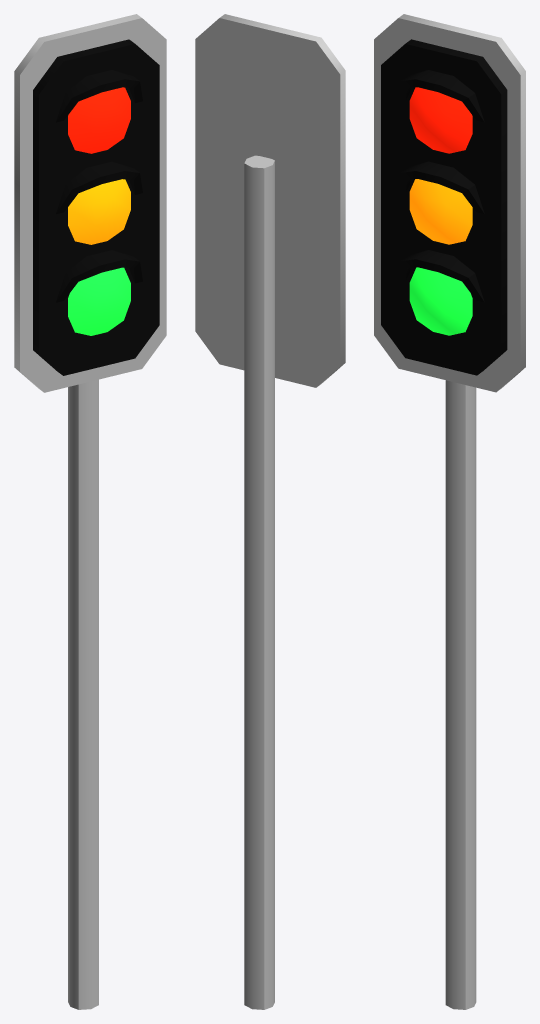
File: TrafficLight.fbx
The picture shows the model from 3 angles, left to right: view 1: azimuth 30°, elevation 25°; view 2: azimuth 150°, elevation 25°; view 3: azimuth 330°, elevation 25°; orthographic projection.
Parts seen in each view (by area): view 1: Plane.028; view 2: Plane.028; view 3: Plane.028.
Part boxes in pixels (x1,y1,x2,y2): Plane.028: (14,14,166,1009); Plane.028: (195,14,345,1009); Plane.028: (374,14,525,1009).
Size of the model in its own units: 26.32 by 169 by 11.91.
